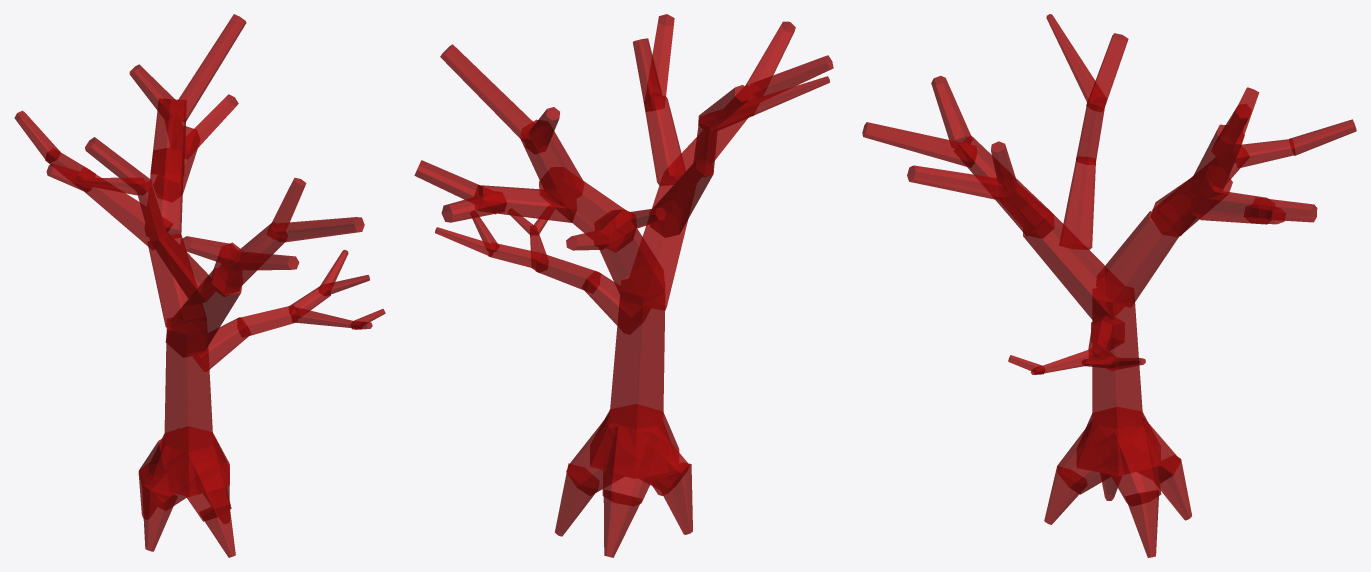
Rendered from SM_Env_Tree_Meadow_02_Collision.fbx.
3 renders of one model, left to right at view 1: azimuth 30°, elevation 25°; view 2: azimuth 150°, elevation 25°; view 3: azimuth 270°, elevation 25°, orthographic. The views are drawn at different scales.
Visible parts, largest first — view 1: SM_Env_Tree_Meadow_02_Collision; view 2: SM_Env_Tree_Meadow_02_Collision; view 3: SM_Env_Tree_Meadow_02_Collision.
Boxes of the visible parts, box(x1,y1,x2,y2) form: SM_Env_Tree_Meadow_02_Collision: box(14, 14, 385, 557); SM_Env_Tree_Meadow_02_Collision: box(414, 14, 833, 557); SM_Env_Tree_Meadow_02_Collision: box(862, 14, 1356, 557).
Bounding box in the file's own units: 449 × 631 × 587.
